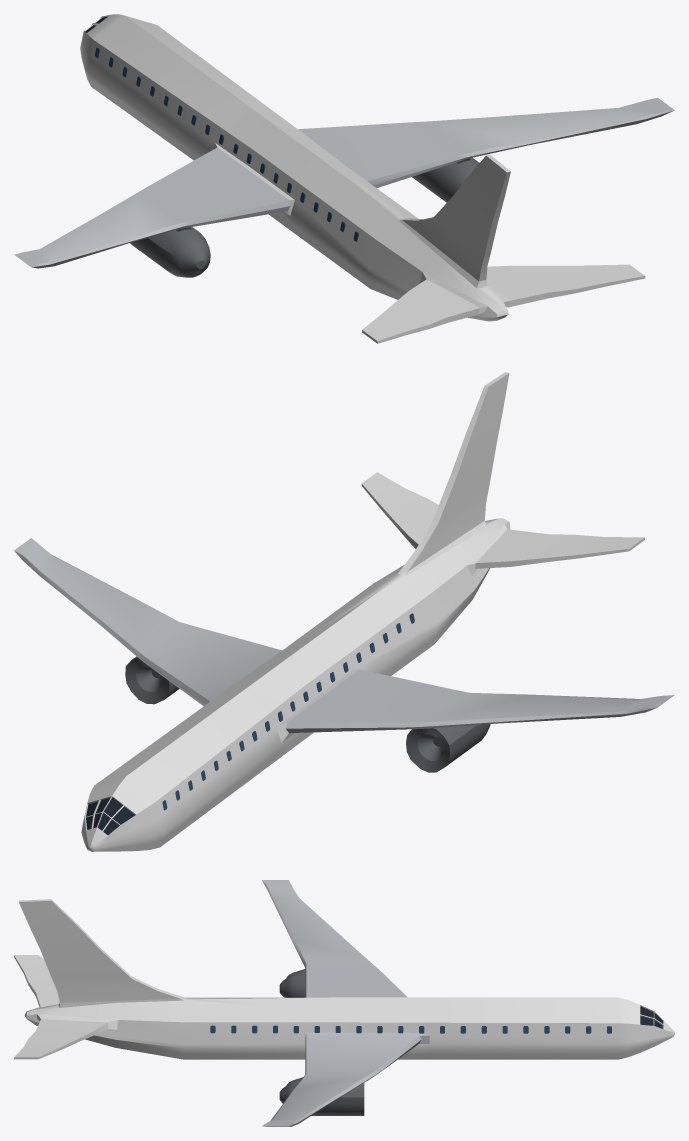
The model's file is aircraft3d.glb.
The picture shows the model from 3 angles, top to bottom: view 1: azimuth 30°, elevation 25°; view 2: azimuth 150°, elevation 25°; view 3: azimuth 270°, elevation 25°; orthographic projection. The views are drawn at different scales.
Parts seen in each view (by area): view 1: Cube.002; view 2: Cube.002; view 3: Cube.002.
Part boxes in pixels (x1,y1,x2,y2): Cube.002: [14, 14, 674, 343]; Cube.002: [14, 372, 674, 851]; Cube.002: [14, 880, 674, 1126].
Size of the model in its own units: 2.51 by 0.7668 by 2.85.
